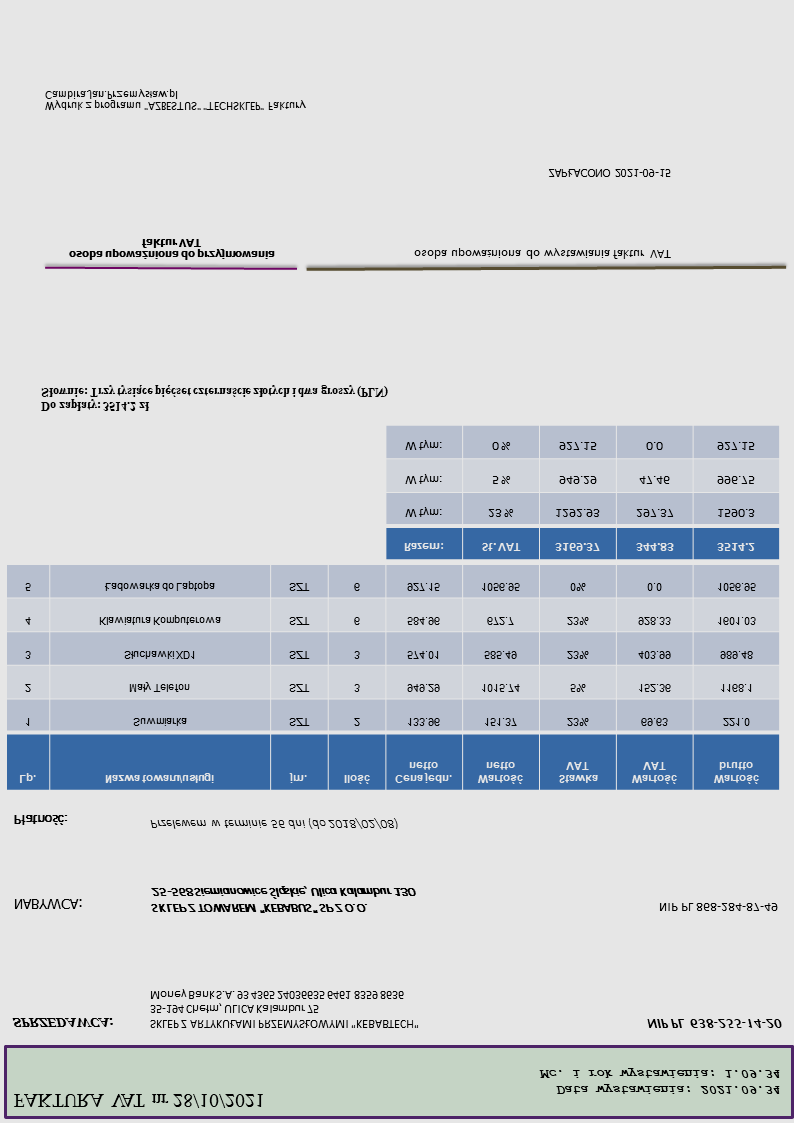Table: (5, 563, 781, 792), (384, 424, 781, 561)
TextBox: (146, 987, 421, 1032), (38, 383, 389, 414), (148, 884, 417, 915), (536, 1065, 782, 1098), (42, 87, 308, 114), (66, 236, 278, 264), (11, 1090, 266, 1111), (148, 815, 399, 833), (411, 246, 672, 263), (644, 1015, 783, 1032), (545, 166, 671, 181), (657, 900, 779, 914), (10, 1015, 115, 1030), (11, 896, 83, 912), (11, 812, 70, 828)
